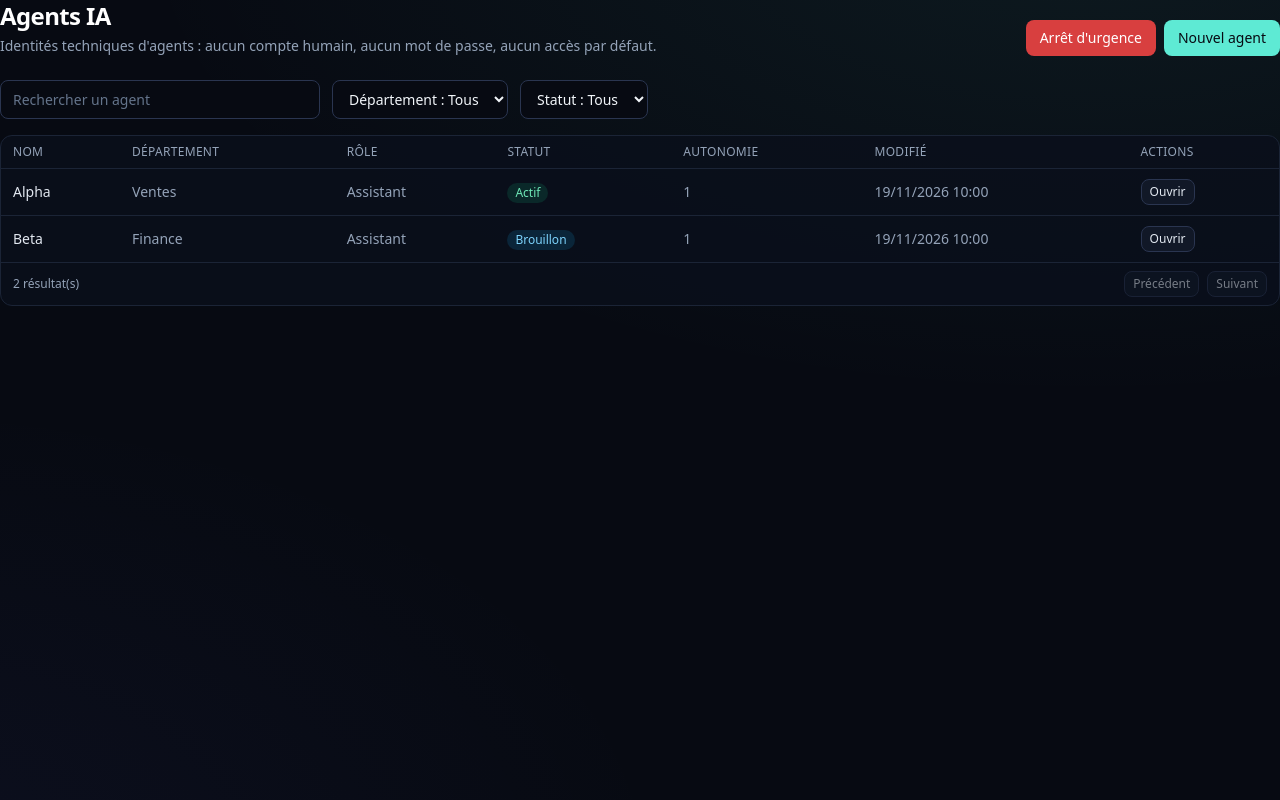
Test: AgentsView › affiche l'erreur de l'API traduite (nom déjà pris)
Expected: the text "Alpha" is shown, x1=1 y1=168 x2=120 y2=216
Click the button "Nouvel agent". click: (1222, 38)
box: x1=1164 y1=20 x2=1279 y2=56
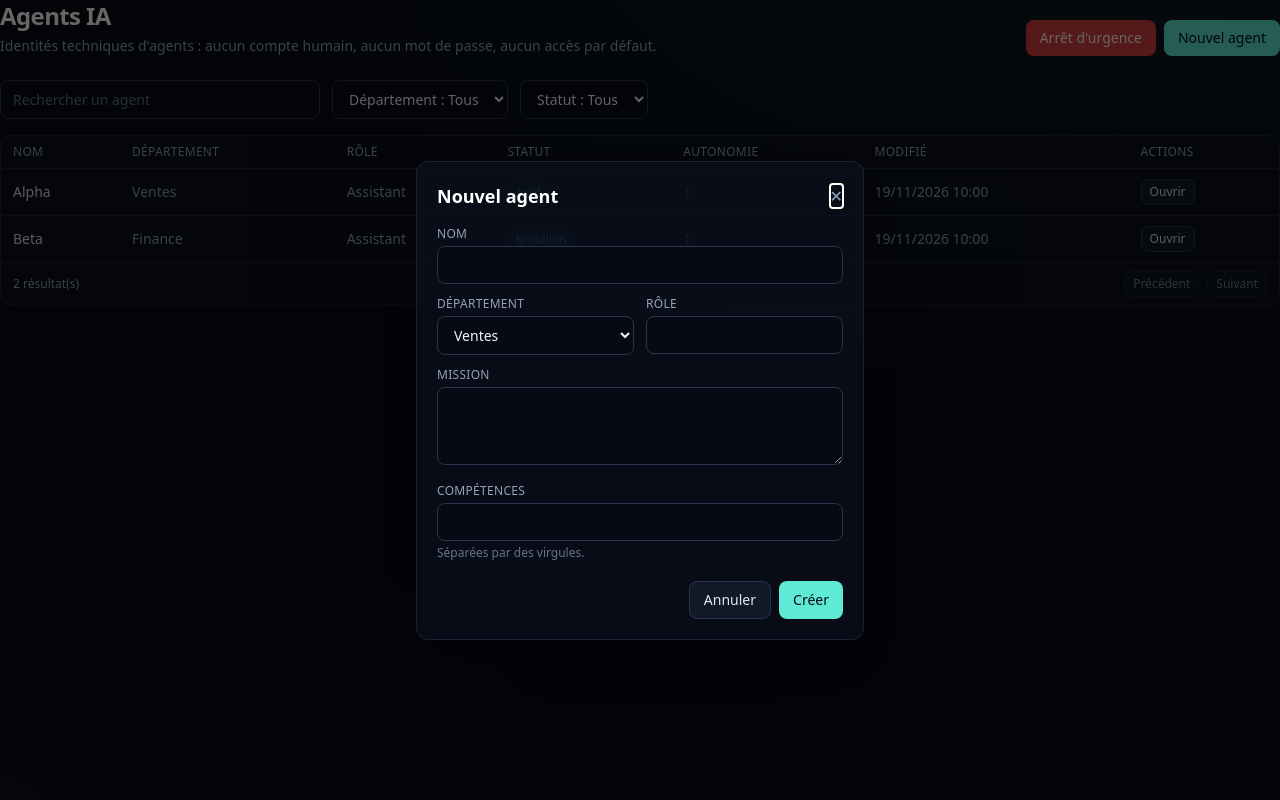
Type "Alpha" into the field labelled "Nom". click: (640, 264)
box: x1=437 y1=246 x2=843 y2=284
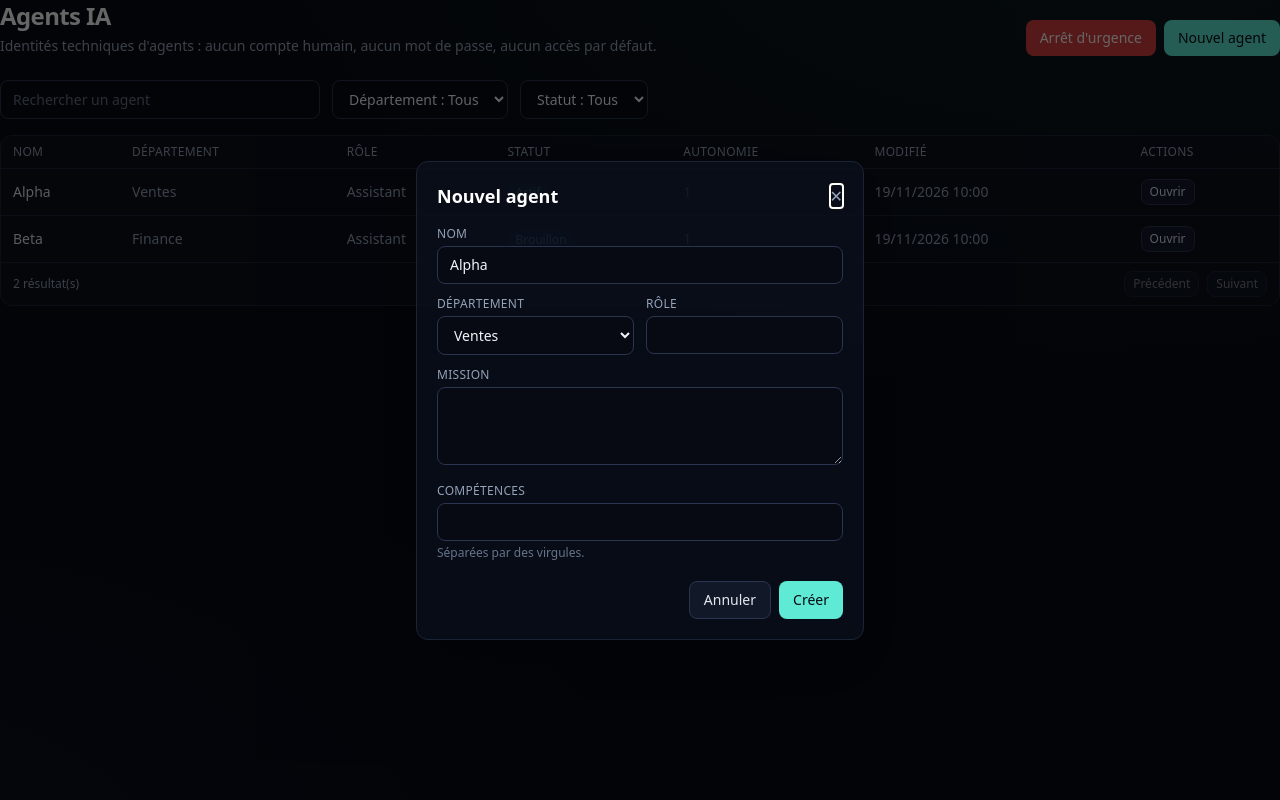
Type "R" into the field labelled "Rôle". click: (744, 334)
box: x1=646 y1=316 x2=843 y2=354
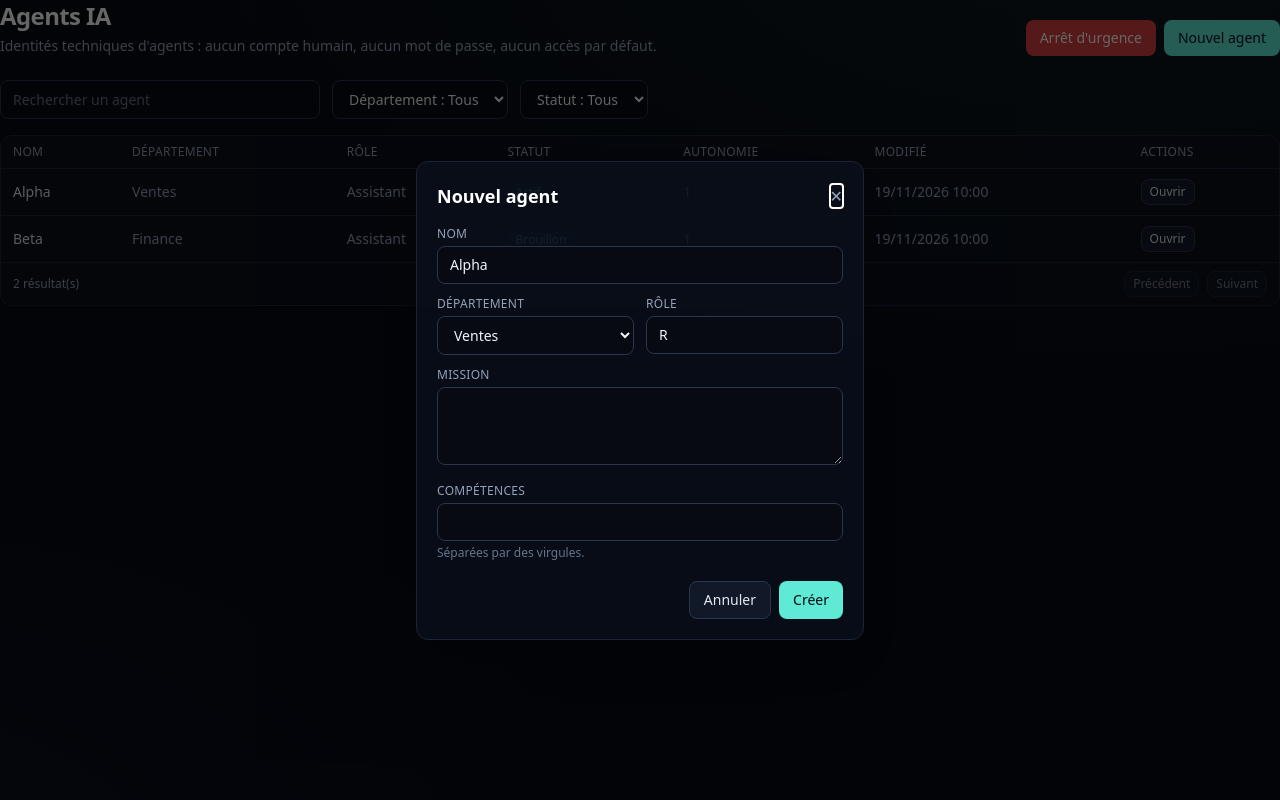
Click the button "Créer". click: (811, 600)
box: x1=779 y1=580 x2=843 y2=618
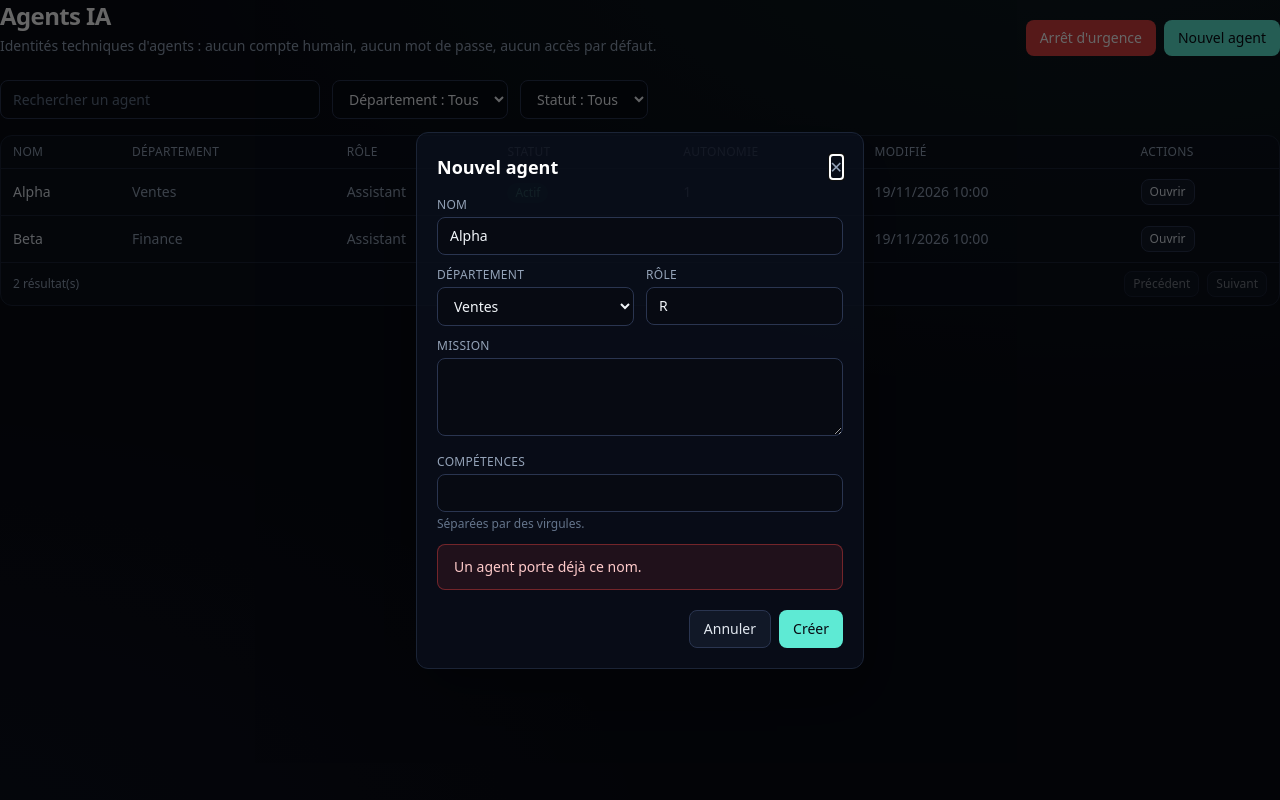
Expected: the text "Un agent porte déjà ce nom." is shown, x1=454 y1=556 x2=642 y2=576
